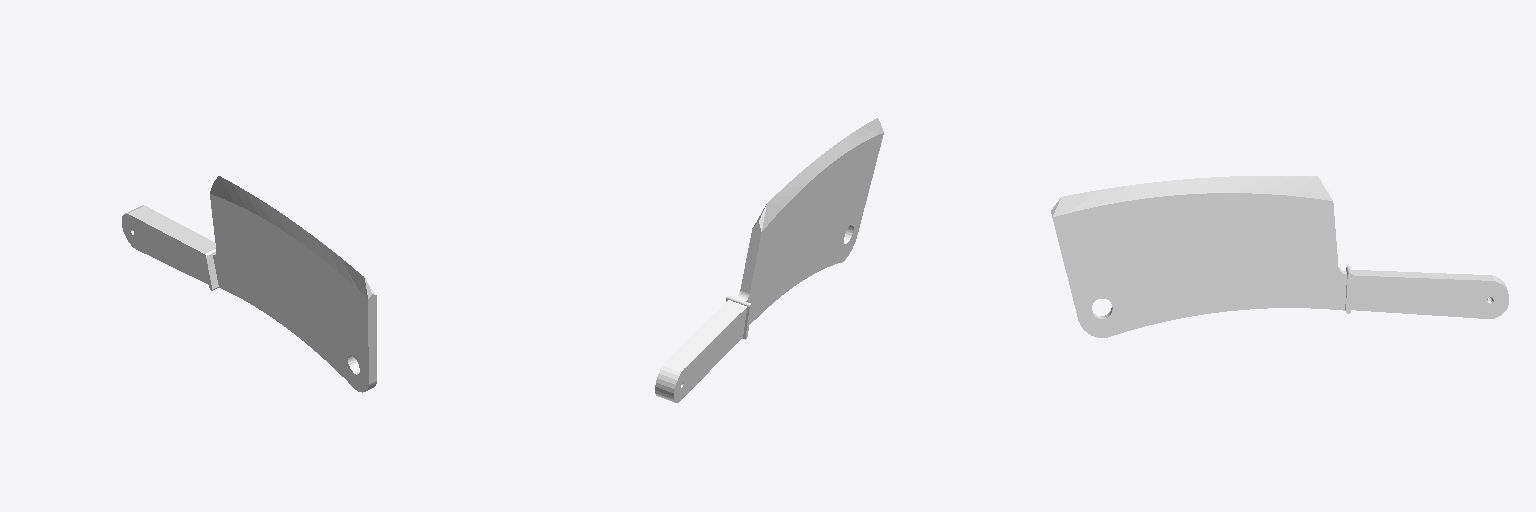
The model's file is model_align.obj.
The picture shows the model from 3 angles: view 1: azimuth 30°, elevation 25°; view 2: azimuth 150°, elevation 25°; view 3: azimuth 270°, elevation 25°; orthographic projection.
Size of the model in its own units: 0.0233 by 0.0739 by 0.2099.